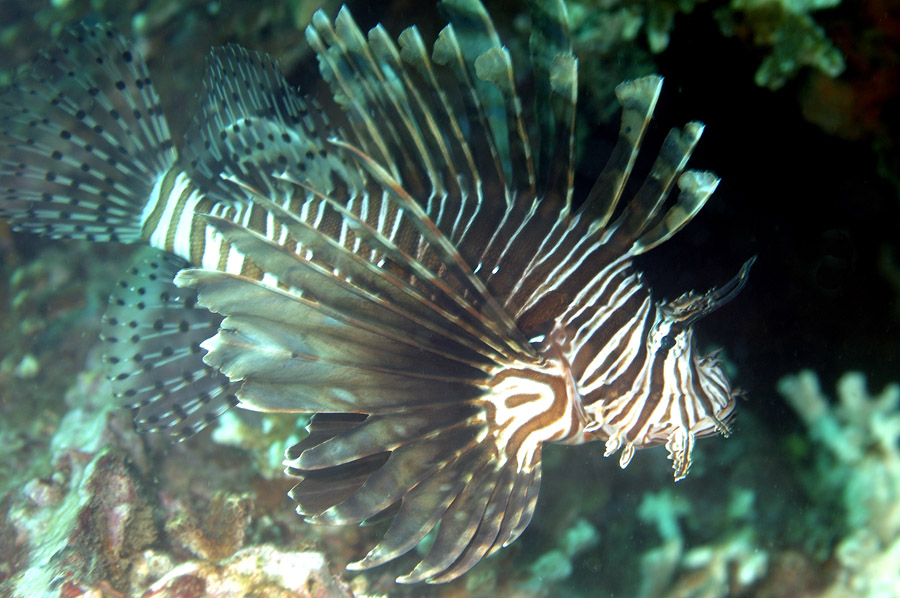Pterois_volitans: (41, 9, 749, 562)
